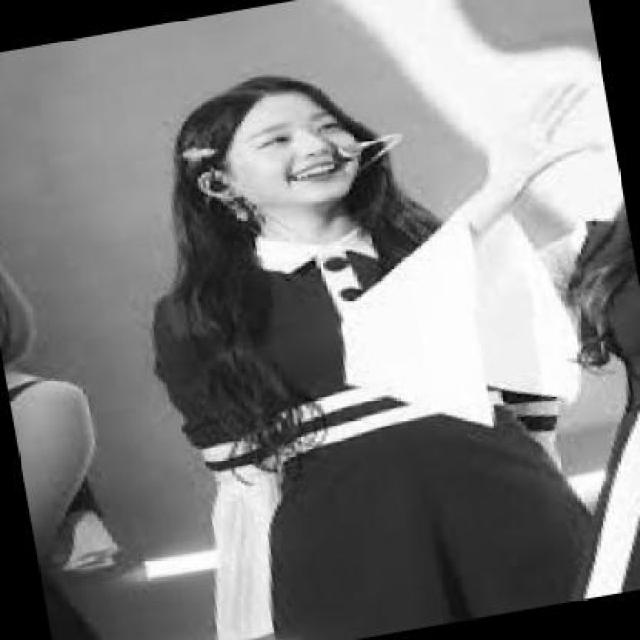earphone: (201, 167, 238, 202)
